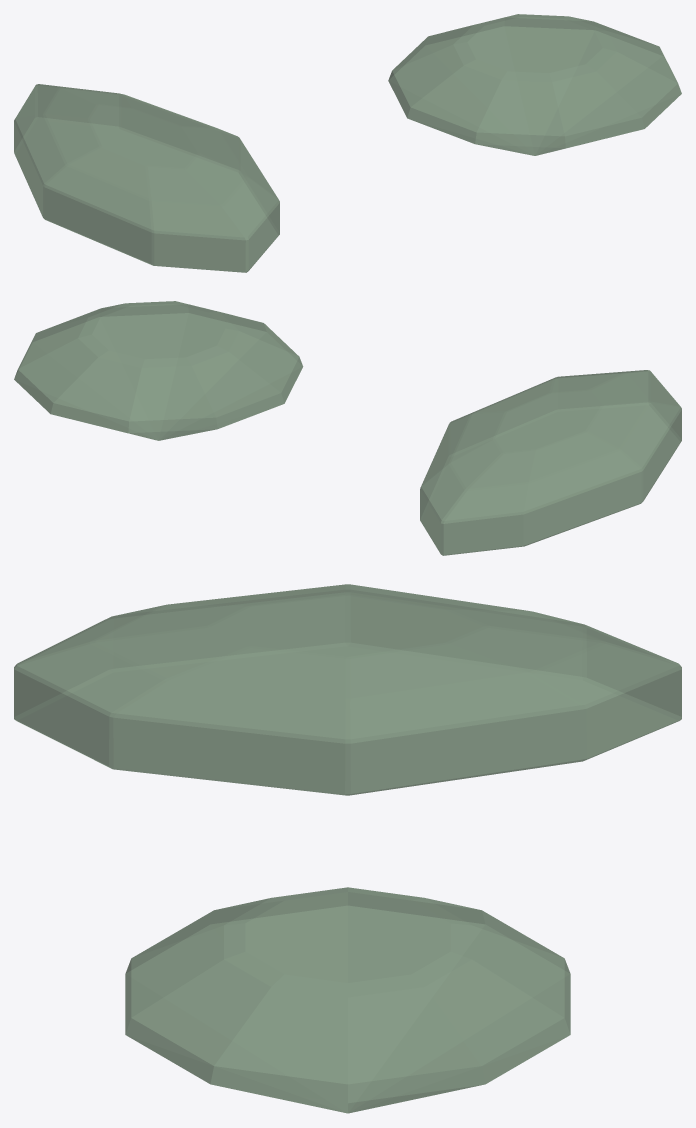
Rendered from jewels.fbx.
3 views of the same model, one above another, from view 1: azimuth 30°, elevation 25°; view 2: azimuth 150°, elevation 25°; view 3: azimuth 270°, elevation 25° (orthographic). The views are drawn at different scales.
Visible parts, largest first — view 1: pSphere1, pCone1; view 2: pSphere1, pCone1; view 3: pSphere1, pCone1.
Part boxes in pixels (x1,y1,x2,y2): pSphere1: [14, 84, 279, 272]; pCone1: [388, 14, 681, 155]; pSphere1: [420, 370, 681, 555]; pCone1: [14, 301, 303, 440]; pSphere1: [14, 584, 681, 795]; pCone1: [125, 887, 570, 1113].
Bounding box in the file's own units: 4.72 × 0.842 × 2.78.
